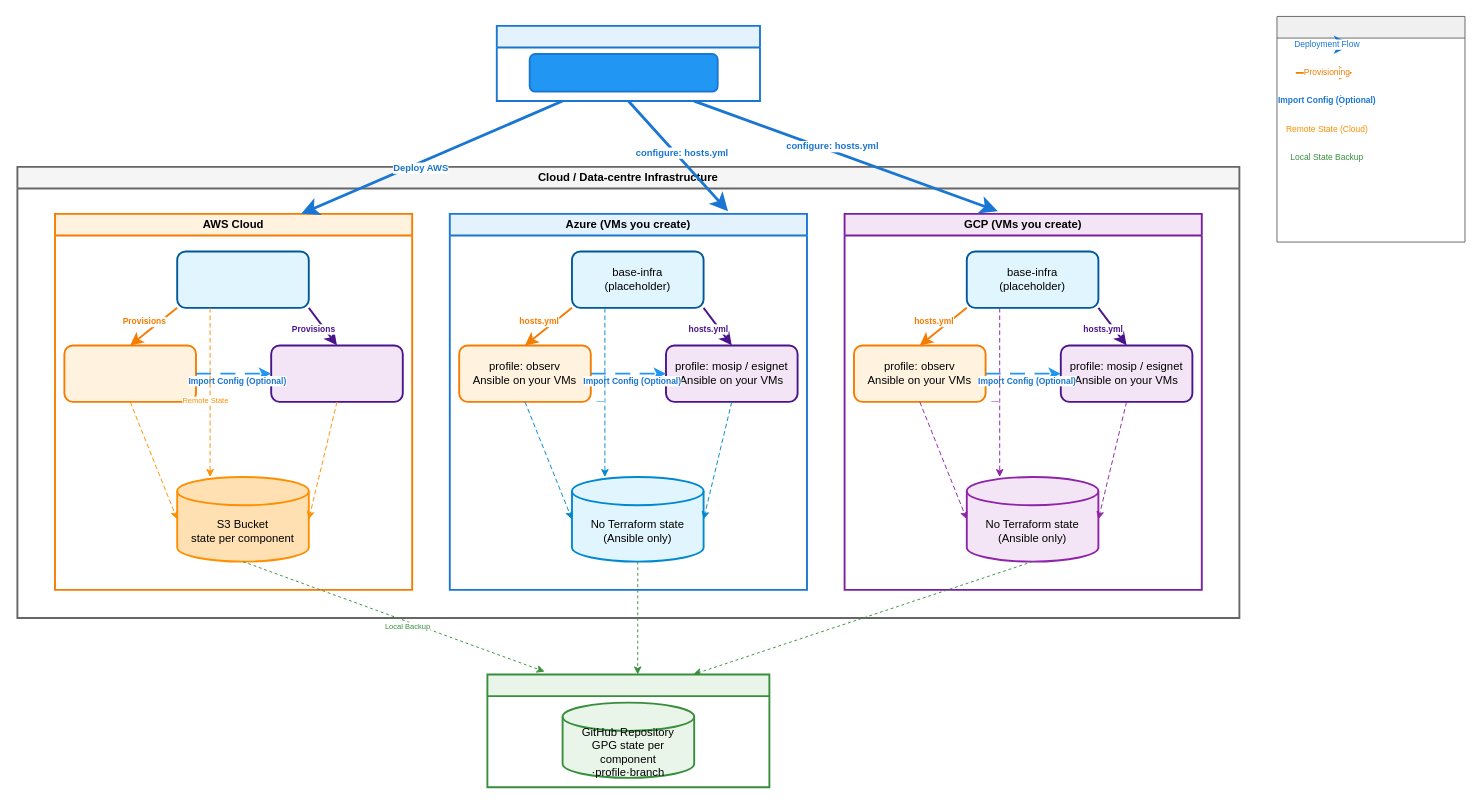
The diagram is 1481 pixels wide and 805 high, and some of its shapes have lost their labels. Each missing label, with the box of its shape:
base-infra VPC + WireGuard: (176, 250, 309, 308)
GitHub Actions Central Deployment Control: (528, 53, 718, 92)
GitHub Actions Orchestration: (495, 24, 760, 102)
Legend: (1276, 16, 1465, 242)
Local State Management: (486, 673, 770, 788)
profile: mosip / esignet security·iam·compute·storage·dns + Ansible → RKE2: (270, 344, 403, 402)
profile: observ Terraform + Ansible Rancher + Keycloak: (63, 344, 196, 402)
